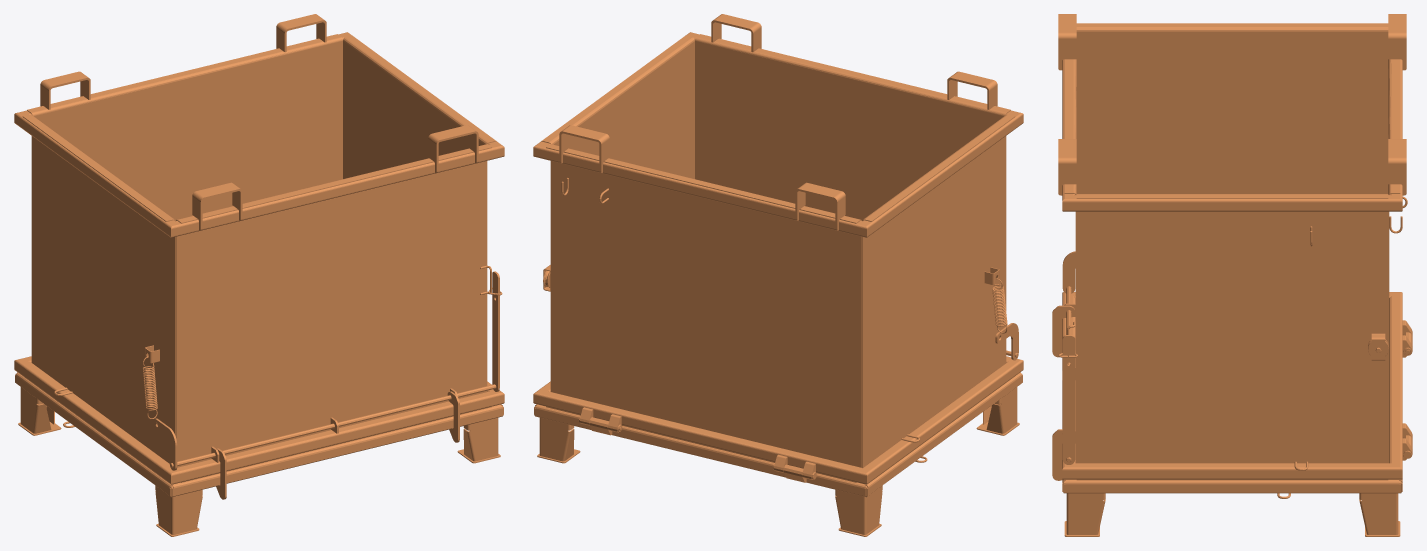
Rendered from Gaylord.fbx.
The picture shows the model from 3 angles, left to right: view 1: azimuth 30°, elevation 25°; view 2: azimuth 150°, elevation 25°; view 3: azimuth 270°, elevation 25°; orthographic projection. The views are drawn at different scales.
Visible parts, largest first — view 1: DD_KVD_001; view 2: DD_KVD_001; view 3: DD_KVD_001.
Part boxes in pixels (x1,y1,x2,y2): DD_KVD_001: [14, 14, 504, 536]; DD_KVD_001: [533, 14, 1023, 536]; DD_KVD_001: [1052, 14, 1412, 536].
Size of the model in its own units: 11118 by 10305 by 9250.
